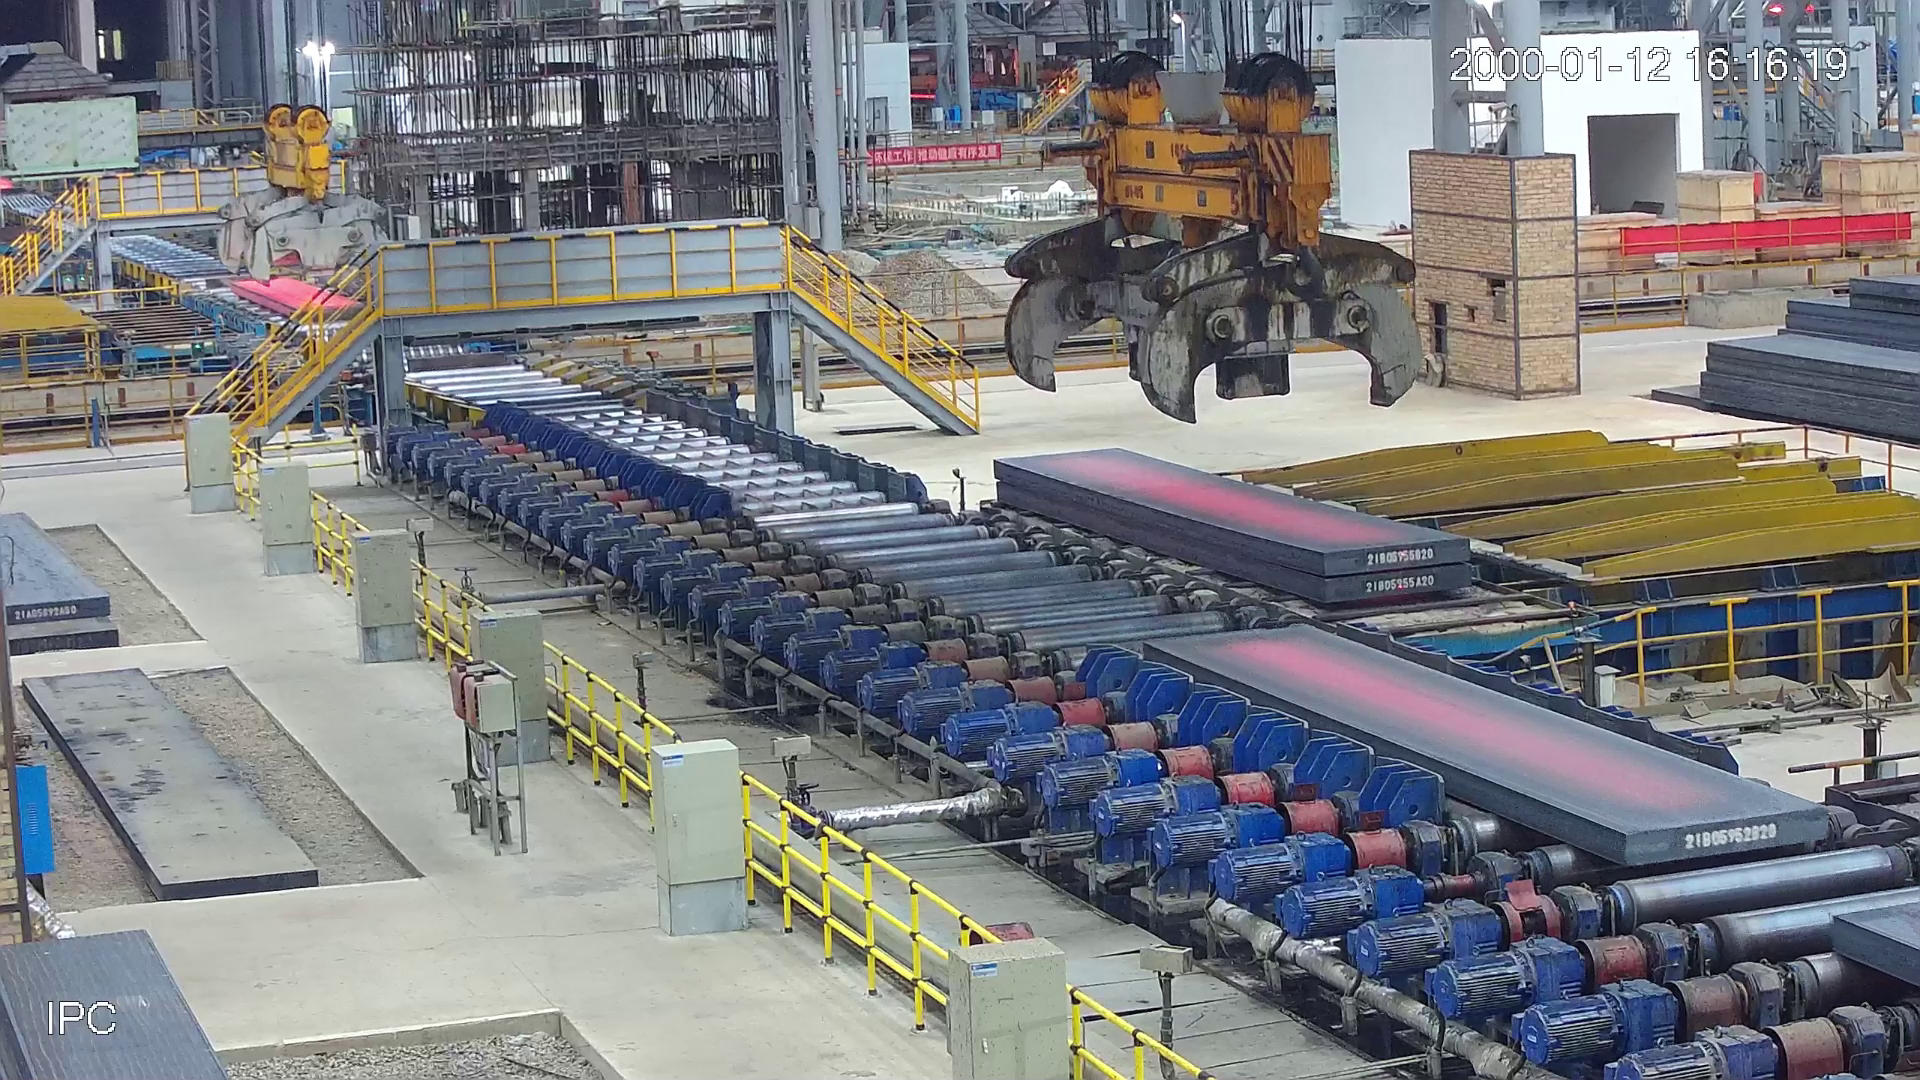crane: (1004, 51, 1419, 427), (215, 103, 389, 281)
slab: (1145, 630, 1830, 869), (994, 450, 1476, 611), (225, 278, 376, 324)
